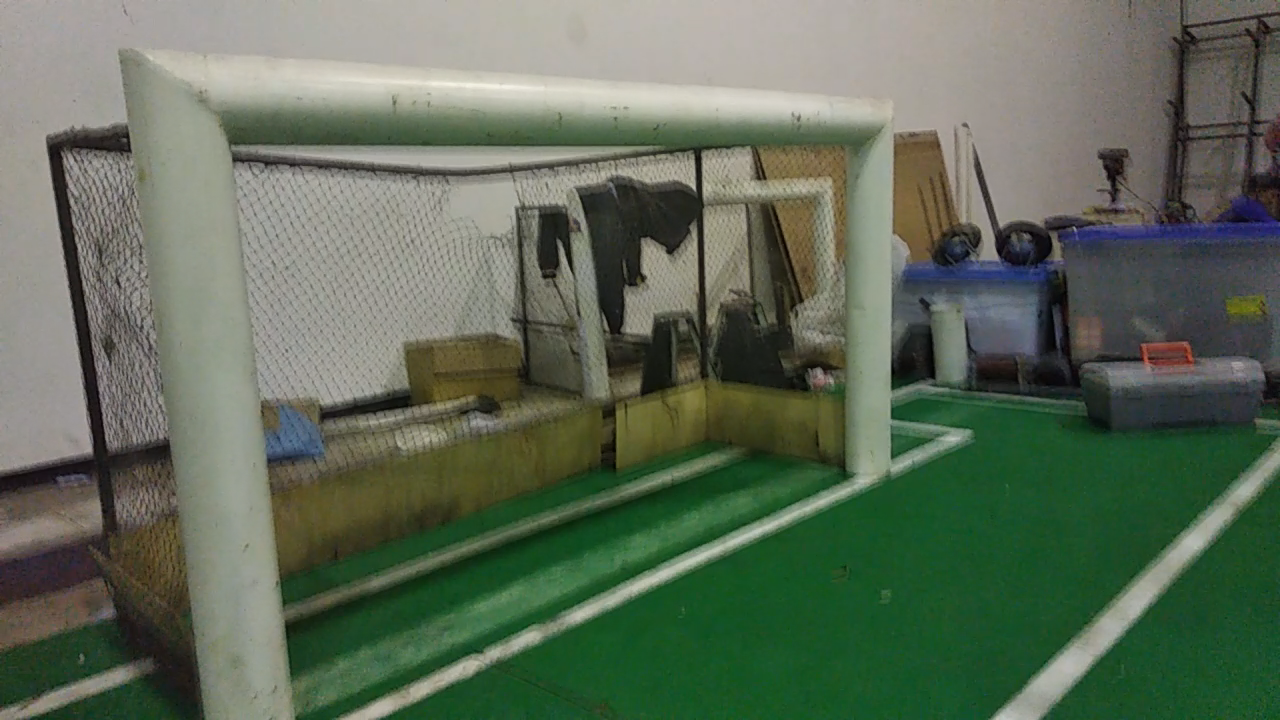gawang: (106, 37, 905, 708)
